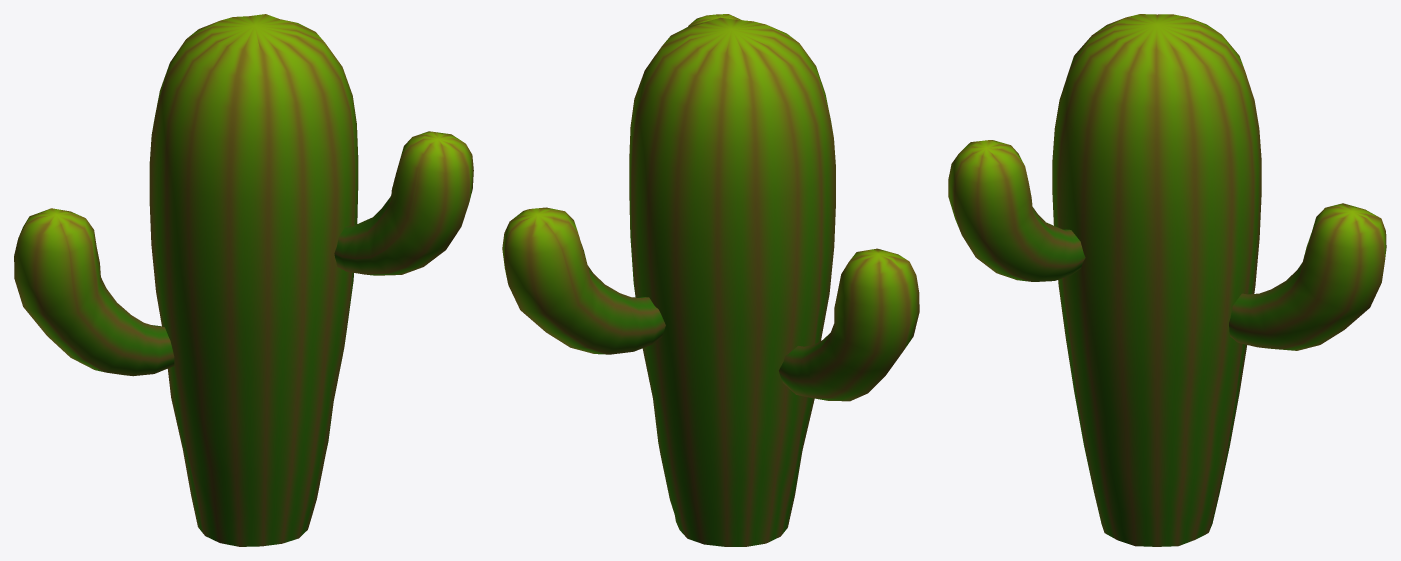
Rendered from cactus.glb.
3 views of the same model, side by side, from view 1: azimuth 30°, elevation 25°; view 2: azimuth 150°, elevation 25°; view 3: azimuth 270°, elevation 25° (orthographic).
Parts seen in each view (by area): view 1: Cactus.008_Cacti001.002_0; view 2: Cactus.008_Cacti001.002_0; view 3: Cactus.008_Cacti001.002_0.
Boxes of the visible parts, x1=… form: Cactus.008_Cacti001.002_0: x1=14, y1=14, x2=473, y2=546; Cactus.008_Cacti001.002_0: x1=502, y1=14, x2=919, y2=546; Cactus.008_Cacti001.002_0: x1=948, y1=14, x2=1386, y2=546.
Size of the model in its own units: 9.7 by 13.56 by 10.77.
1 material, 1 textured.
